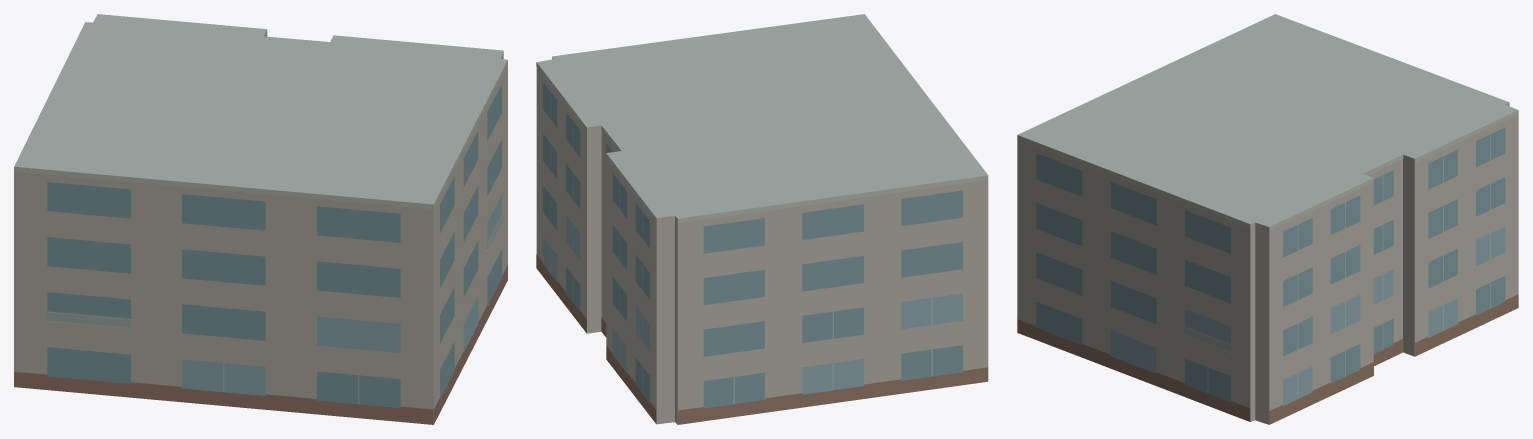
Rendered from survey-upis-32620126.glb.
The picture shows the model from 3 angles, left to right: view 1: azimuth 30°, elevation 25°; view 2: azimuth 150°, elevation 25°; view 3: azimuth 270°, elevation 25°; orthographic projection. The views are drawn at different scales.
Parts seen in each view (by area): view 1: survey-upis-32620126.tmp; view 2: survey-upis-32620126.tmp; view 3: survey-upis-32620126.tmp.
Part boxes in pixels (<box>): survey-upis-32620126.tmp: <box>14,14,507,424</box>; survey-upis-32620126.tmp: <box>536,14,988,424</box>; survey-upis-32620126.tmp: <box>1017,14,1518,424</box>.
Size of the model in its own units: 25.64 by 11.1 by 25.5.
